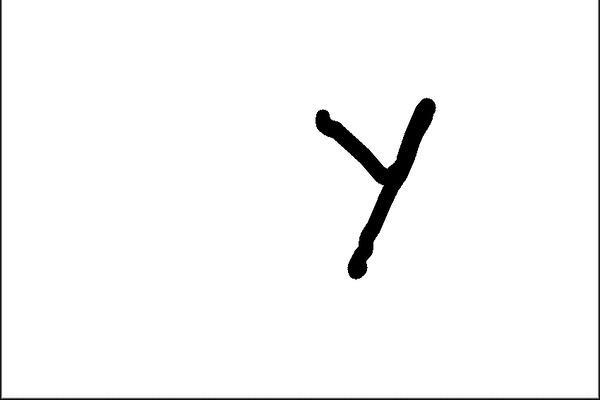Y: (307, 90, 439, 283)
